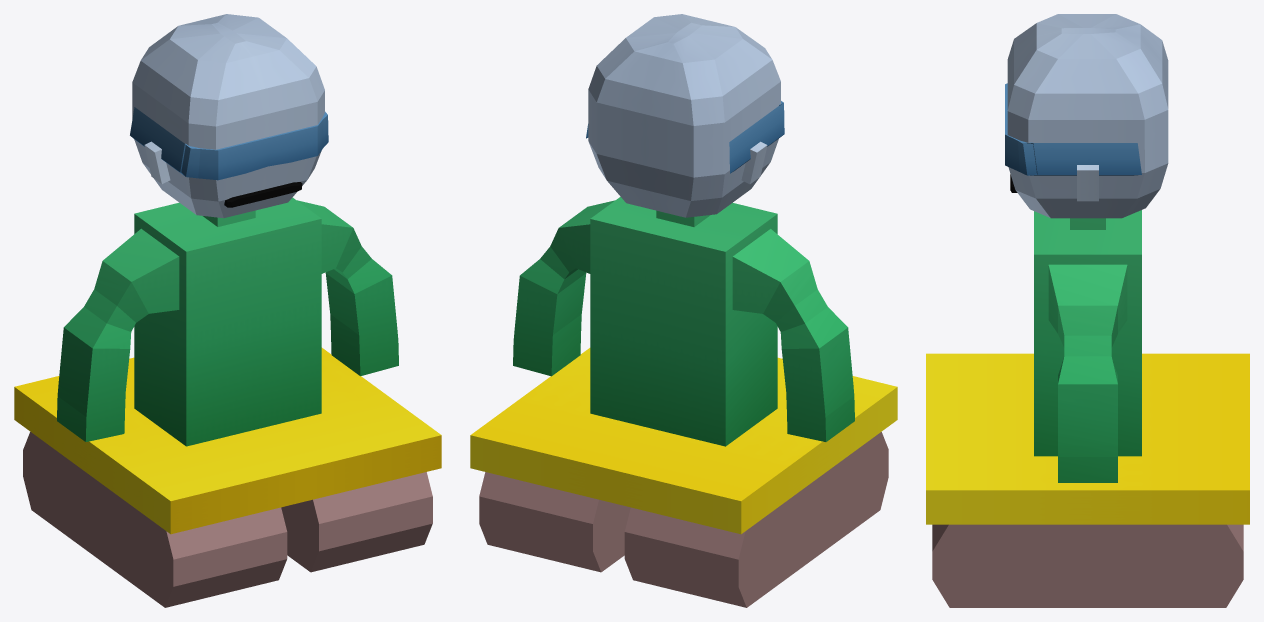
Rendered from robot.glb.
3 renders of one model, left to right at view 1: azimuth 30°, elevation 25°; view 2: azimuth 150°, elevation 25°; view 3: azimuth 270°, elevation 25°, orthographic. The views are drawn at different scales.
Visible parts, largest first — view 1: Robot; view 2: Robot; view 3: Robot.
Part boxes in pixels (x1,y1,x2,y2): Robot: [14, 14, 441, 607]; Robot: [470, 14, 897, 607]; Robot: [926, 14, 1249, 607].
Size of the model in its own units: 1.79 by 2.71 by 1.55.
Materials: 1 (1 with a texture image).
